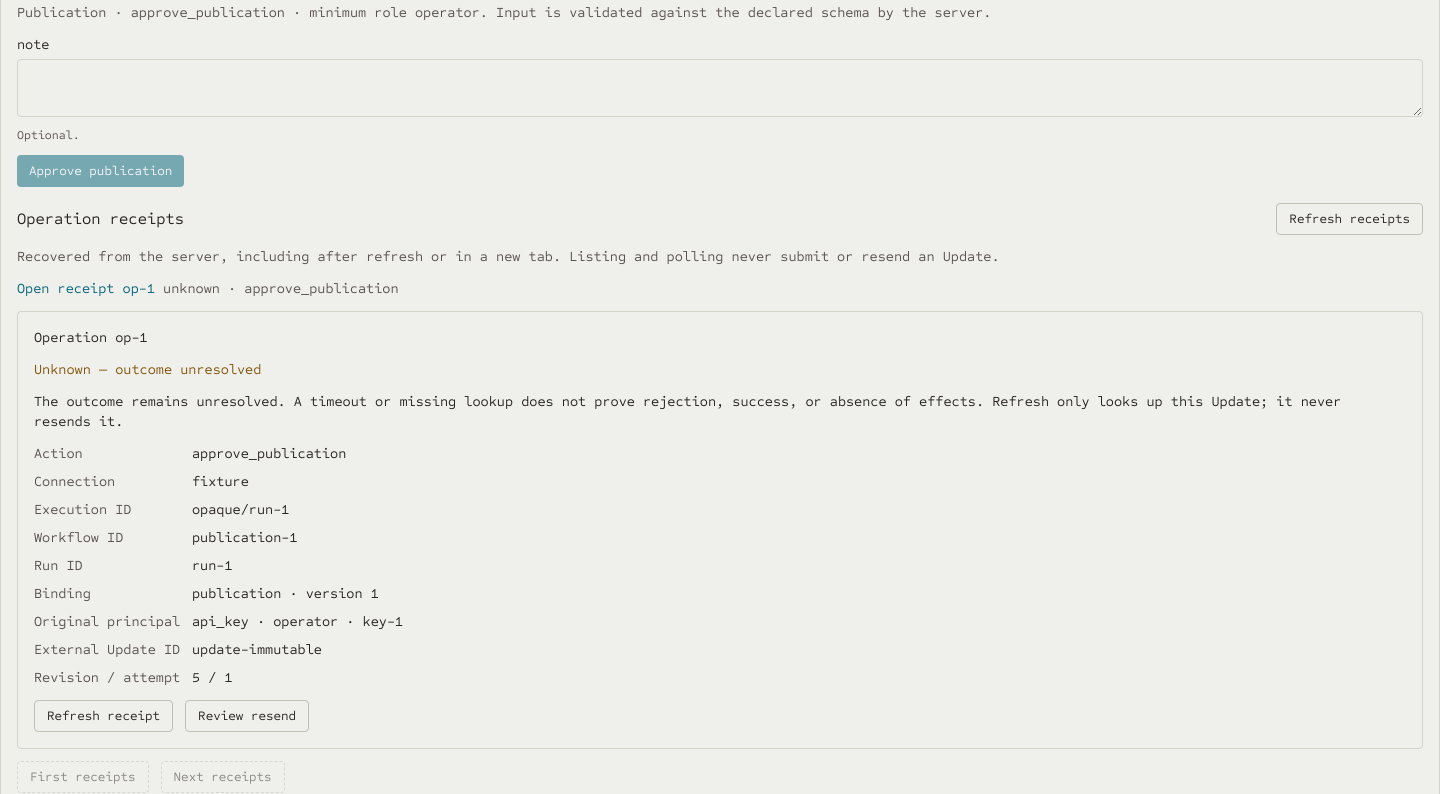
Test: server operation receipts › blocks resend when refresh fails and preserves the last uncertain receipt
The width and height of the screenshot is (1440, 794).
(page scrolled)
Expected: the element with test id "operation-receipt" is shown, top-left (17, 311), bottom-right (1423, 749)
Click the button "Review resend" at {"x": 247, "y": 716}, box top-left (185, 700), bottom-right (309, 732)
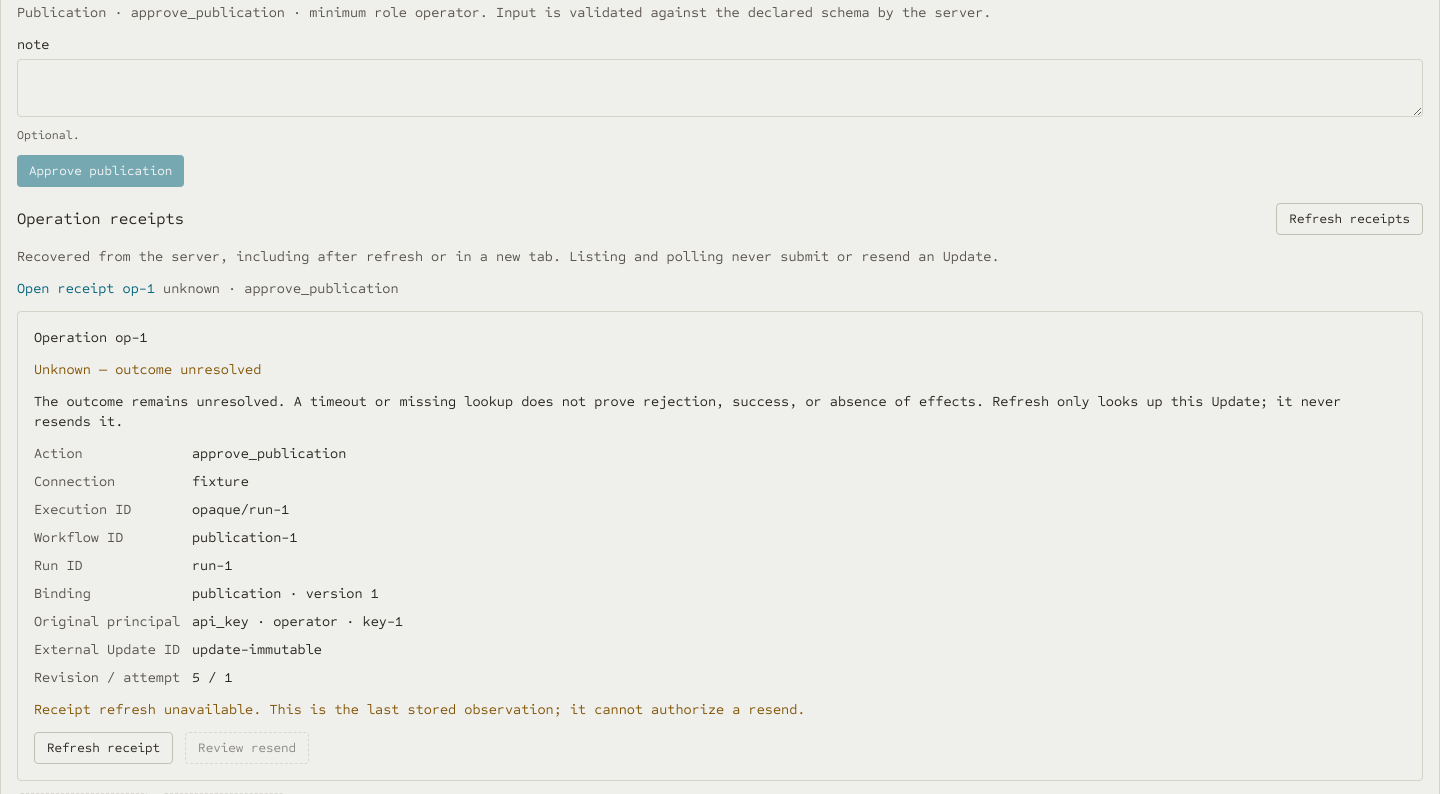
Expected: the text "Receipt refresh unavailable" is shown, top-left (34, 701), bottom-right (805, 718)
Expected: the button "Review resend" is disabled, top-left (185, 732), bottom-right (309, 764)
